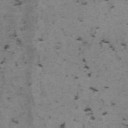oxide scale of temperature system: (74, 0, 128, 128), (0, 32, 44, 87), (10, 118, 19, 125), (13, 0, 22, 6), (58, 122, 66, 128), (110, 4, 115, 8)
